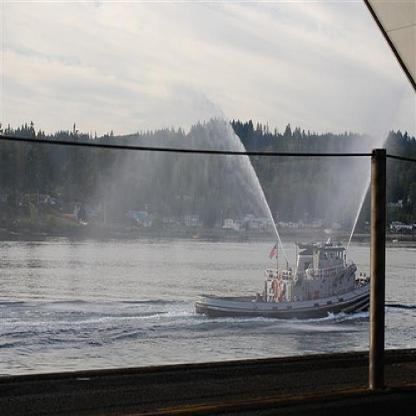boat: (192, 236, 370, 322)
